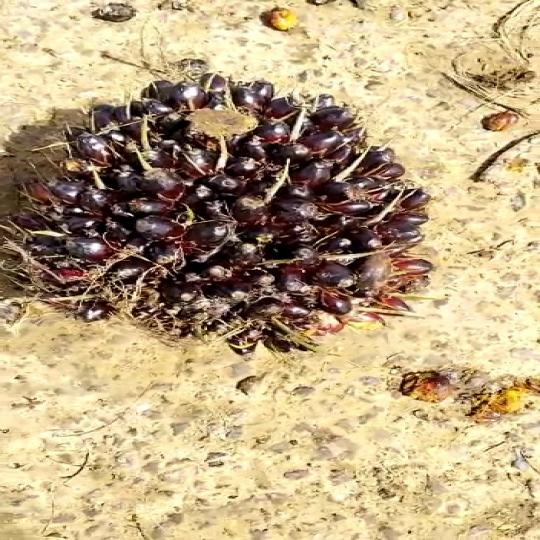mentah: (38, 70, 463, 381)
